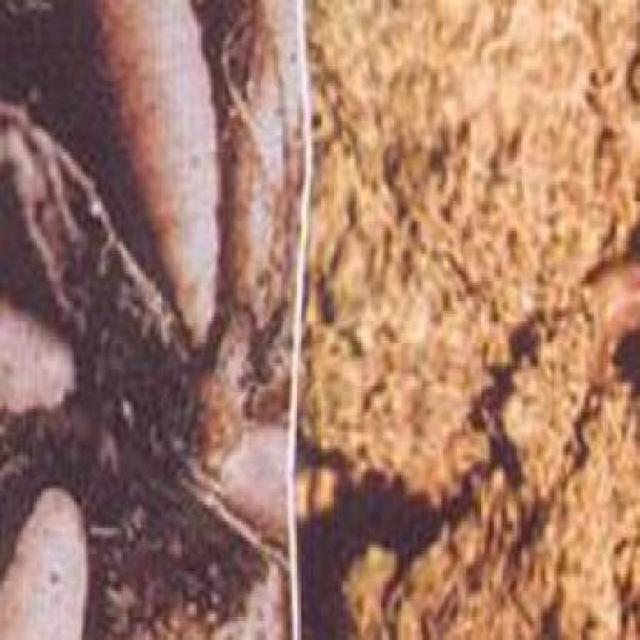whorl-maggot: (90, 0, 224, 345), (0, 483, 92, 638)
